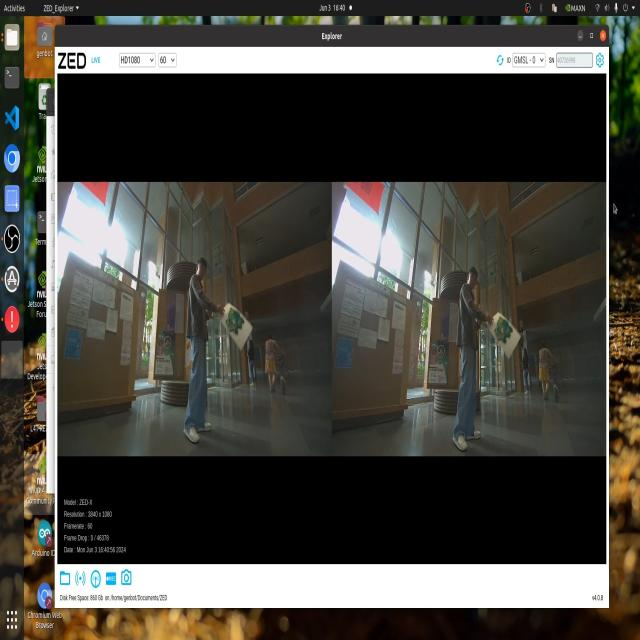green: (218, 298, 249, 344), (494, 308, 521, 356)
